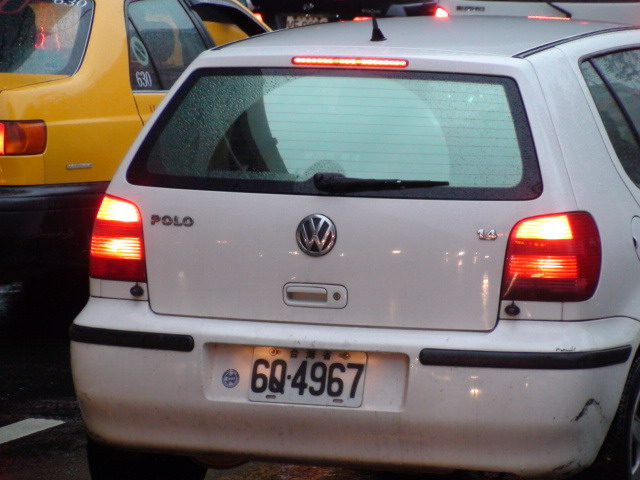plate: (245, 343, 371, 410)
